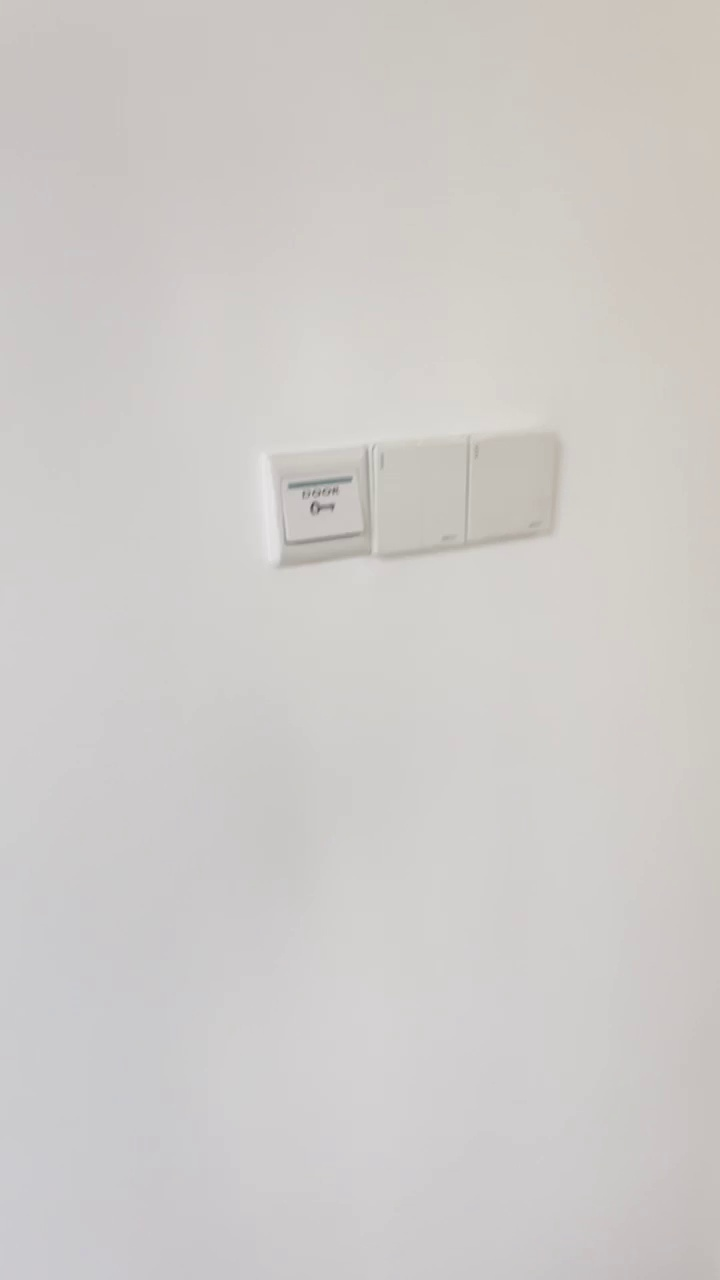button: (367, 433, 466, 558), (467, 430, 557, 541)
